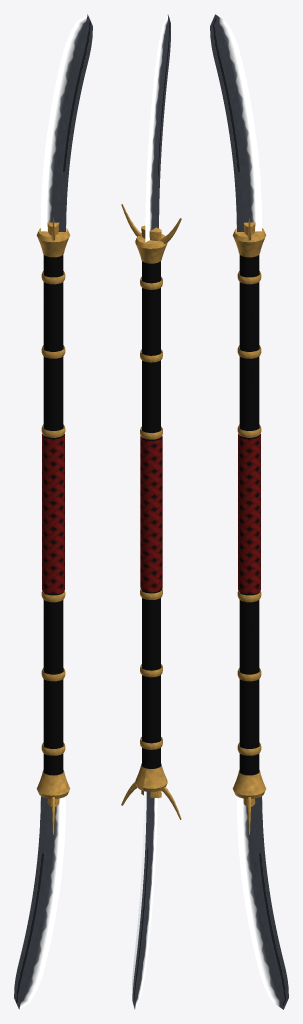
The model's file is boss_staff.glb.
3 renders of one model, left to right at view 1: azimuth 90°, elevation 25°; view 2: azimuth 150°, elevation 25°; view 3: azimuth 270°, elevation 25°, orthographic. The views are drawn at different scales.
Visible parts, largest first — view 1: TwinFang; view 2: TwinFang; view 3: TwinFang.
Part boxes in pixels (<box>): TwinFang: <box>14,14,92,1009</box>; TwinFang: <box>121,14,181,1009</box>; TwinFang: <box>210,14,288,1009</box>.
Bounding box in the file's own units: 0.2094 × 3.21 × 0.2304.
Materials: 4 (4 with a texture image).
